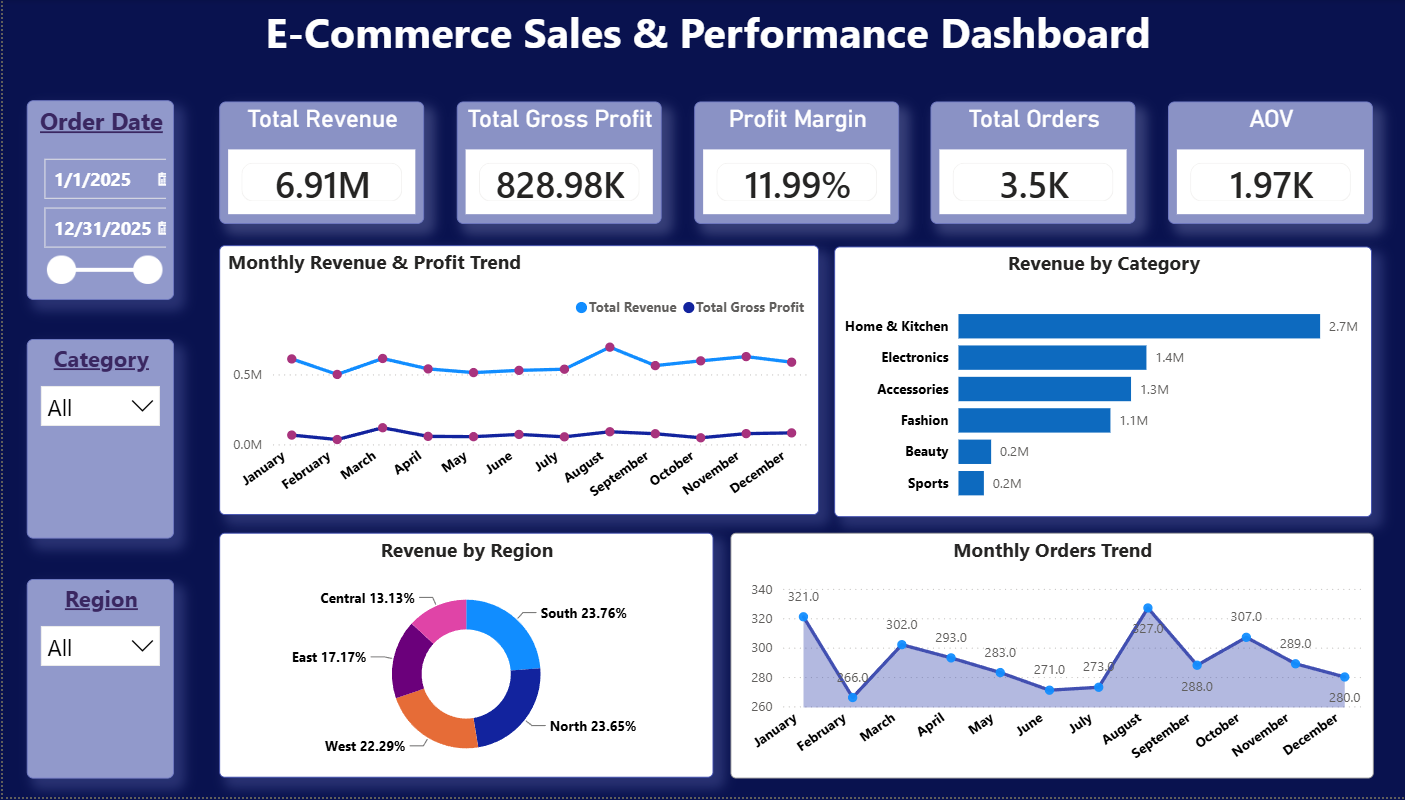

The dashboard page shown, as its layout file describes it:
{"tool":"powerbi","page":{"name":"Executive Overview","canvas":[1280,720],"ordinal":0},"visuals":[{"type":"cardVisual","title":"Total Orders","fields":{"Data":["Table1.Total_Orders"]},"box":[836.6,91.9,185,110],"z":0},{"type":"cardVisual","title":"Total Revenue","fields":{"Data":["Table1.Total_Revenue"]},"box":[195.3,91.9,185,110],"z":1000},{"type":"cardVisual","title":"Total Gross Profit","fields":{"Data":["Table1.Total_Gross_Profit"]},"box":[409.1,91.9,185,110],"z":2000},{"type":"cardVisual","title":"Profit Margin","fields":{"Data":["Table1.Profit_Margin"]},"box":[622.9,91.9,185,110],"z":3000},{"type":"cardVisual","title":"AOV","fields":{"Data":["Table1.AOV"]},"box":[1050.4,91.9,185,110],"z":4000},{"type":"slicer","title":"Order Date","fields":{"Values":["Table1.Order_Date"]},"box":[21,91,133,180],"z":5000},{"type":"slicer","title":"Category","fields":{"Values":["Table1.Category"]},"box":[21,306.7,133,180],"z":6000},{"type":"slicer","title":"Region","fields":{"Values":["Table1.Region"]},"box":[21.2,522.5,133,180],"z":7000},{"type":"lineChart","title":"Monthly Revenue & Profit Trend","fields":{"Category":["Table1.Order_Date.Variation.Date Hierarchy.Month"],"Y":["Table1.Total_Revenue","Table1.Total_Gross_Profit"]},"box":[195.3,222.1,540.5,243.3],"z":8000},{"type":"clusteredBarChart","title":"Revenue by Category","fields":{"Y":["Table1.Total_Revenue"],"Category":["Table1.Category"]},"box":[750,223.3,484.9,244.2],"z":9000},{"type":"donutChart","title":"Revenue by Region","fields":{"Category":["Table1.Region"],"Y":["Table1.Total_Revenue"]},"box":[195.3,481.4,445.4,220.9],"z":10000},{"type":"areaChart","title":"Monthly Orders Trend","fields":{"Category":["Table1.Order_Date.Variation.Date Hierarchy.Month"],"Y":["Table1.Total_Orders"]},"box":[655.4,481.8,579.6,221.3],"z":11000},{"type":"textbox","box":[0,0,1280.3,55],"z":12000}]}

Visuals, with their boxes in screenshot pixels (x1, y1, x2, y2), scaled from the page's 1280x720 canvas onto the 1405x800 screenshot:
"Total Orders" cardVisual: 918,102,1121,224
"Total Revenue" cardVisual: 214,102,417,224
"Total Gross Profit" cardVisual: 449,102,652,224
"Profit Margin" cardVisual: 684,102,887,224
"AOV" cardVisual: 1153,102,1356,224
"Order Date" slicer: 23,101,169,301
"Category" slicer: 23,341,169,541
"Region" slicer: 23,581,169,781
"Monthly Revenue & Profit Trend" lineChart: 214,247,808,517
"Revenue by Category" clusteredBarChart: 823,248,1355,519
"Revenue by Region" donutChart: 214,535,703,780
"Monthly Orders Trend" areaChart: 719,535,1356,781
textbox: 0,0,1404,61
